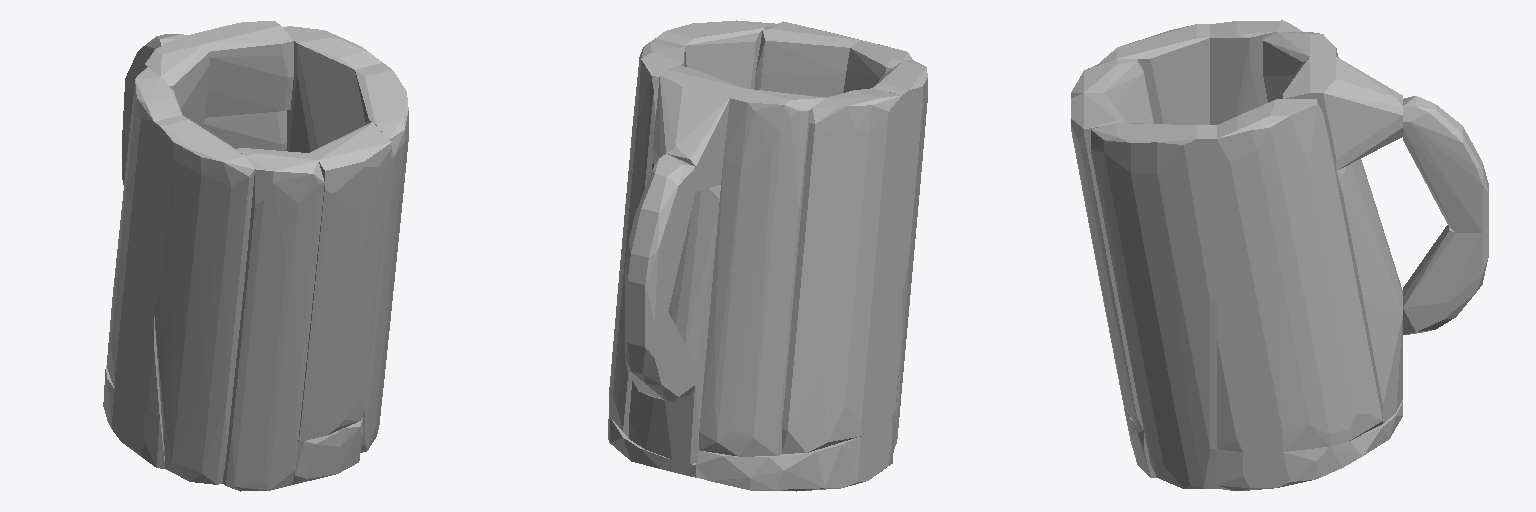
The robot description file, URDF, robot "root":
<robot name="root">
  <link name="link_fad118b32085f3f2c2c72e575af174cd_convex_piece_0">
    <inertial>
      <origin rpy="0 0 0" xyz="0 0 0"/>
      <mass value="1.40E-07"/>
      <inertia ixx="4.72E-11" ixy="7.38E-13" ixz="-1.54E-13" iyy="2.46E-12" iyz="-6.19E-12" izz="4.52E-11"/>
    </inertial>
    <visual>
      <origin rpy="0 0 0" xyz="0 0 0"/>
      <geometry>
        <mesh filename="fad118b32085f3f2c2c72e575af174cd_convex_piece_0.obj" scale="1.0000E+00"/>
      </geometry>
      <material name="">
        <color rgba="7.50E-01 7.50E-01 7.50E-01 1"/>
      </material>
    </visual>
    <collision>
      <origin rpy="0 0 0" xyz="0 0 0"/>
      <geometry>
        <mesh filename="fad118b32085f3f2c2c72e575af174cd_convex_piece_0.obj" scale="1.0000E+00"/>
      </geometry>
    </collision>
  </link>
  <link name="link_fad118b32085f3f2c2c72e575af174cd_convex_piece_1">
    <inertial>
      <origin rpy="0 0 0" xyz="0 0 0"/>
      <mass value="1.58E-07"/>
      <inertia ixx="7.34E-11" ixy="5.71E-13" ixz="4.11E-13" iyy="2.25E-11" iyz="3.10E-11" izz="5.13E-11"/>
    </inertial>
    <visual>
      <origin rpy="0 0 0" xyz="0 0 0"/>
      <geometry>
        <mesh filename="fad118b32085f3f2c2c72e575af174cd_convex_piece_1.obj" scale="1.0000E+00"/>
      </geometry>
      <material name="">
        <color rgba="7.50E-01 7.50E-01 7.50E-01 1"/>
      </material>
    </visual>
    <collision>
      <origin rpy="0 0 0" xyz="0 0 0"/>
      <geometry>
        <mesh filename="fad118b32085f3f2c2c72e575af174cd_convex_piece_1.obj" scale="1.0000E+00"/>
      </geometry>
    </collision>
  </link>
  <joint name="link_fad118b32085f3f2c2c72e575af174cd_convex_piece_1_joint" type="fixed">
    <origin rpy="0 0 0" xyz="0 0 0"/>
    <parent link="link_fad118b32085f3f2c2c72e575af174cd_convex_piece_0"/>
    <child link="link_fad118b32085f3f2c2c72e575af174cd_convex_piece_1"/>
  </joint>
  <link name="link_fad118b32085f3f2c2c72e575af174cd_convex_piece_2">
    <inertial>
      <origin rpy="0 0 0" xyz="0 0 0"/>
      <mass value="7.10E-07"/>
      <inertia ixx="1.92E-10" ixy="9.35E-11" ixz="-2.35E-11" iyy="1.95E-10" iyz="-3.03E-11" izz="1.85E-10"/>
    </inertial>
    <visual>
      <origin rpy="0 0 0" xyz="0 0 0"/>
      <geometry>
        <mesh filename="fad118b32085f3f2c2c72e575af174cd_convex_piece_2.obj" scale="1.0000E+00"/>
      </geometry>
      <material name="">
        <color rgba="7.50E-01 7.50E-01 7.50E-01 1"/>
      </material>
    </visual>
    <collision>
      <origin rpy="0 0 0" xyz="0 0 0"/>
      <geometry>
        <mesh filename="fad118b32085f3f2c2c72e575af174cd_convex_piece_2.obj" scale="1.0000E+00"/>
      </geometry>
    </collision>
  </link>
  <joint name="link_fad118b32085f3f2c2c72e575af174cd_convex_piece_2_joint" type="fixed">
    <origin rpy="0 0 0" xyz="0 0 0"/>
    <parent link="link_fad118b32085f3f2c2c72e575af174cd_convex_piece_1"/>
    <child link="link_fad118b32085f3f2c2c72e575af174cd_convex_piece_2"/>
  </joint>
  <link name="link_fad118b32085f3f2c2c72e575af174cd_convex_piece_3">
    <inertial>
      <origin rpy="0 0 0" xyz="0 0 0"/>
      <mass value="1.03E-06"/>
      <inertia ixx="3.84E-10" ixy="8.18E-11" ixz="1.54E-11" iyy="1.89E-10" iyz="1.81E-11" izz="2.62E-10"/>
    </inertial>
    <visual>
      <origin rpy="0 0 0" xyz="0 0 0"/>
      <geometry>
        <mesh filename="fad118b32085f3f2c2c72e575af174cd_convex_piece_3.obj" scale="1.0000E+00"/>
      </geometry>
      <material name="">
        <color rgba="7.50E-01 7.50E-01 7.50E-01 1"/>
      </material>
    </visual>
    <collision>
      <origin rpy="0 0 0" xyz="0 0 0"/>
      <geometry>
        <mesh filename="fad118b32085f3f2c2c72e575af174cd_convex_piece_3.obj" scale="1.0000E+00"/>
      </geometry>
    </collision>
  </link>
  <joint name="link_fad118b32085f3f2c2c72e575af174cd_convex_piece_3_joint" type="fixed">
    <origin rpy="0 0 0" xyz="0 0 0"/>
    <parent link="link_fad118b32085f3f2c2c72e575af174cd_convex_piece_2"/>
    <child link="link_fad118b32085f3f2c2c72e575af174cd_convex_piece_3"/>
  </joint>
  <link name="link_fad118b32085f3f2c2c72e575af174cd_convex_piece_4">
    <inertial>
      <origin rpy="0 0 0" xyz="0 0 0"/>
      <mass value="5.51E-07"/>
      <inertia ixx="1.92E-10" ixy="-2.05E-12" ixz="8.16E-11" iyy="2.27E-10" iyz="-1.07E-11" izz="5.17E-11"/>
    </inertial>
    <visual>
      <origin rpy="0 0 0" xyz="0 0 0"/>
      <geometry>
        <mesh filename="fad118b32085f3f2c2c72e575af174cd_convex_piece_4.obj" scale="1.0000E+00"/>
      </geometry>
      <material name="">
        <color rgba="7.50E-01 7.50E-01 7.50E-01 1"/>
      </material>
    </visual>
    <collision>
      <origin rpy="0 0 0" xyz="0 0 0"/>
      <geometry>
        <mesh filename="fad118b32085f3f2c2c72e575af174cd_convex_piece_4.obj" scale="1.0000E+00"/>
      </geometry>
    </collision>
  </link>
  <joint name="link_fad118b32085f3f2c2c72e575af174cd_convex_piece_4_joint" type="fixed">
    <origin rpy="0 0 0" xyz="0 0 0"/>
    <parent link="link_fad118b32085f3f2c2c72e575af174cd_convex_piece_3"/>
    <child link="link_fad118b32085f3f2c2c72e575af174cd_convex_piece_4"/>
  </joint>
  <link name="link_fad118b32085f3f2c2c72e575af174cd_convex_piece_5">
    <inertial>
      <origin rpy="0 0 0" xyz="0 0 0"/>
      <mass value="1.02E-06"/>
      <inertia ixx="2.78E-10" ixy="-1.26E-10" ixz="2.12E-11" iyy="2.69E-10" iyz="-3.20E-11" izz="2.56E-10"/>
    </inertial>
    <visual>
      <origin rpy="0 0 0" xyz="0 0 0"/>
      <geometry>
        <mesh filename="fad118b32085f3f2c2c72e575af174cd_convex_piece_5.obj" scale="1.0000E+00"/>
      </geometry>
      <material name="">
        <color rgba="7.50E-01 7.50E-01 7.50E-01 1"/>
      </material>
    </visual>
    <collision>
      <origin rpy="0 0 0" xyz="0 0 0"/>
      <geometry>
        <mesh filename="fad118b32085f3f2c2c72e575af174cd_convex_piece_5.obj" scale="1.0000E+00"/>
      </geometry>
    </collision>
  </link>
  <joint name="link_fad118b32085f3f2c2c72e575af174cd_convex_piece_5_joint" type="fixed">
    <origin rpy="0 0 0" xyz="0 0 0"/>
    <parent link="link_fad118b32085f3f2c2c72e575af174cd_convex_piece_4"/>
    <child link="link_fad118b32085f3f2c2c72e575af174cd_convex_piece_5"/>
  </joint>
  <link name="link_fad118b32085f3f2c2c72e575af174cd_convex_piece_6">
    <inertial>
      <origin rpy="0 0 0" xyz="0 0 0"/>
      <mass value="4.96E-07"/>
      <inertia ixx="1.84E-10" ixy="1.45E-12" ixz="-6.09E-11" iyy="2.09E-10" iyz="-1.22E-11" izz="3.82E-11"/>
    </inertial>
    <visual>
      <origin rpy="0 0 0" xyz="0 0 0"/>
      <geometry>
        <mesh filename="fad118b32085f3f2c2c72e575af174cd_convex_piece_6.obj" scale="1.0000E+00"/>
      </geometry>
      <material name="">
        <color rgba="7.50E-01 7.50E-01 7.50E-01 1"/>
      </material>
    </visual>
    <collision>
      <origin rpy="0 0 0" xyz="0 0 0"/>
      <geometry>
        <mesh filename="fad118b32085f3f2c2c72e575af174cd_convex_piece_6.obj" scale="1.0000E+00"/>
      </geometry>
    </collision>
  </link>
  <joint name="link_fad118b32085f3f2c2c72e575af174cd_convex_piece_6_joint" type="fixed">
    <origin rpy="0 0 0" xyz="0 0 0"/>
    <parent link="link_fad118b32085f3f2c2c72e575af174cd_convex_piece_5"/>
    <child link="link_fad118b32085f3f2c2c72e575af174cd_convex_piece_6"/>
  </joint>
  <link name="link_fad118b32085f3f2c2c72e575af174cd_convex_piece_7">
    <inertial>
      <origin rpy="0 0 0" xyz="0 0 0"/>
      <mass value="9.69E-07"/>
      <inertia ixx="1.11E-10" ixy="1.78E-11" ixz="-1.78E-11" iyy="2.52E-10" iyz="-1.25E-11" izz="1.44E-10"/>
    </inertial>
    <visual>
      <origin rpy="0 0 0" xyz="0 0 0"/>
      <geometry>
        <mesh filename="fad118b32085f3f2c2c72e575af174cd_convex_piece_7.obj" scale="1.0000E+00"/>
      </geometry>
      <material name="">
        <color rgba="7.50E-01 7.50E-01 7.50E-01 1"/>
      </material>
    </visual>
    <collision>
      <origin rpy="0 0 0" xyz="0 0 0"/>
      <geometry>
        <mesh filename="fad118b32085f3f2c2c72e575af174cd_convex_piece_7.obj" scale="1.0000E+00"/>
      </geometry>
    </collision>
  </link>
  <joint name="link_fad118b32085f3f2c2c72e575af174cd_convex_piece_7_joint" type="fixed">
    <origin rpy="0 0 0" xyz="0 0 0"/>
    <parent link="link_fad118b32085f3f2c2c72e575af174cd_convex_piece_6"/>
    <child link="link_fad118b32085f3f2c2c72e575af174cd_convex_piece_7"/>
  </joint>
  <link name="link_fad118b32085f3f2c2c72e575af174cd_convex_piece_8">
    <inertial>
      <origin rpy="0 0 0" xyz="0 0 0"/>
      <mass value="8.72E-07"/>
      <inertia ixx="1.39E-10" ixy="-2.76E-11" ixz="-1.94E-11" iyy="1.51E-10" iyz="-4.37E-13" izz="5.84E-11"/>
    </inertial>
    <visual>
      <origin rpy="0 0 0" xyz="0 0 0"/>
      <geometry>
        <mesh filename="fad118b32085f3f2c2c72e575af174cd_convex_piece_8.obj" scale="1.0000E+00"/>
      </geometry>
      <material name="">
        <color rgba="7.50E-01 7.50E-01 7.50E-01 1"/>
      </material>
    </visual>
    <collision>
      <origin rpy="0 0 0" xyz="0 0 0"/>
      <geometry>
        <mesh filename="fad118b32085f3f2c2c72e575af174cd_convex_piece_8.obj" scale="1.0000E+00"/>
      </geometry>
    </collision>
  </link>
  <joint name="link_fad118b32085f3f2c2c72e575af174cd_convex_piece_8_joint" type="fixed">
    <origin rpy="0 0 0" xyz="0 0 0"/>
    <parent link="link_fad118b32085f3f2c2c72e575af174cd_convex_piece_7"/>
    <child link="link_fad118b32085f3f2c2c72e575af174cd_convex_piece_8"/>
  </joint>
  <link name="link_fad118b32085f3f2c2c72e575af174cd_convex_piece_9">
    <inertial>
      <origin rpy="0 0 0" xyz="0 0 0"/>
      <mass value="1.96E-07"/>
      <inertia ixx="1.09E-10" ixy="-6.65E-12" ixz="-1.14E-11" iyy="8.44E-11" iyz="4.79E-11" izz="3.03E-11"/>
    </inertial>
    <visual>
      <origin rpy="0 0 0" xyz="0 0 0"/>
      <geometry>
        <mesh filename="fad118b32085f3f2c2c72e575af174cd_convex_piece_9.obj" scale="1.0000E+00"/>
      </geometry>
      <material name="">
        <color rgba="7.50E-01 7.50E-01 7.50E-01 1"/>
      </material>
    </visual>
    <collision>
      <origin rpy="0 0 0" xyz="0 0 0"/>
      <geometry>
        <mesh filename="fad118b32085f3f2c2c72e575af174cd_convex_piece_9.obj" scale="1.0000E+00"/>
      </geometry>
    </collision>
  </link>
  <joint name="link_fad118b32085f3f2c2c72e575af174cd_convex_piece_9_joint" type="fixed">
    <origin rpy="0 0 0" xyz="0 0 0"/>
    <parent link="link_fad118b32085f3f2c2c72e575af174cd_convex_piece_8"/>
    <child link="link_fad118b32085f3f2c2c72e575af174cd_convex_piece_9"/>
  </joint>
  <link name="link_fad118b32085f3f2c2c72e575af174cd_convex_piece_10">
    <inertial>
      <origin rpy="0 0 0" xyz="0 0 0"/>
      <mass value="8.89E-07"/>
      <inertia ixx="3.48E-10" ixy="-4.66E-11" ixz="2.50E-12" iyy="1.12E-10" iyz="-3.05E-11" izz="2.67E-10"/>
    </inertial>
    <visual>
      <origin rpy="0 0 0" xyz="0 0 0"/>
      <geometry>
        <mesh filename="fad118b32085f3f2c2c72e575af174cd_convex_piece_10.obj" scale="1.0000E+00"/>
      </geometry>
      <material name="">
        <color rgba="7.50E-01 7.50E-01 7.50E-01 1"/>
      </material>
    </visual>
    <collision>
      <origin rpy="0 0 0" xyz="0 0 0"/>
      <geometry>
        <mesh filename="fad118b32085f3f2c2c72e575af174cd_convex_piece_10.obj" scale="1.0000E+00"/>
      </geometry>
    </collision>
  </link>
  <joint name="link_fad118b32085f3f2c2c72e575af174cd_convex_piece_10_joint" type="fixed">
    <origin rpy="0 0 0" xyz="0 0 0"/>
    <parent link="link_fad118b32085f3f2c2c72e575af174cd_convex_piece_9"/>
    <child link="link_fad118b32085f3f2c2c72e575af174cd_convex_piece_10"/>
  </joint>
  <link name="link_fad118b32085f3f2c2c72e575af174cd_convex_piece_11">
    <inertial>
      <origin rpy="0 0 0" xyz="0 0 0"/>
      <mass value="1.32E-06"/>
      <inertia ixx="1.61E-10" ixy="-4.29E-12" ixz="1.07E-11" iyy="3.30E-10" iyz="-1.57E-11" izz="1.73E-10"/>
    </inertial>
    <visual>
      <origin rpy="0 0 0" xyz="0 0 0"/>
      <geometry>
        <mesh filename="fad118b32085f3f2c2c72e575af174cd_convex_piece_11.obj" scale="1.0000E+00"/>
      </geometry>
      <material name="">
        <color rgba="7.50E-01 7.50E-01 7.50E-01 1"/>
      </material>
    </visual>
    <collision>
      <origin rpy="0 0 0" xyz="0 0 0"/>
      <geometry>
        <mesh filename="fad118b32085f3f2c2c72e575af174cd_convex_piece_11.obj" scale="1.0000E+00"/>
      </geometry>
    </collision>
  </link>
  <joint name="link_fad118b32085f3f2c2c72e575af174cd_convex_piece_11_joint" type="fixed">
    <origin rpy="0 0 0" xyz="0 0 0"/>
    <parent link="link_fad118b32085f3f2c2c72e575af174cd_convex_piece_10"/>
    <child link="link_fad118b32085f3f2c2c72e575af174cd_convex_piece_11"/>
  </joint>
  <link name="link_fad118b32085f3f2c2c72e575af174cd_convex_piece_12">
    <inertial>
      <origin rpy="0 0 0" xyz="0 0 0"/>
      <mass value="8.41E-07"/>
      <inertia ixx="1.11E-10" ixy="1.89E-11" ixz="-3.80E-12" iyy="7.59E-11" iyz="-2.32E-11" izz="6.22E-11"/>
    </inertial>
    <visual>
      <origin rpy="0 0 0" xyz="0 0 0"/>
      <geometry>
        <mesh filename="fad118b32085f3f2c2c72e575af174cd_convex_piece_12.obj" scale="1.0000E+00"/>
      </geometry>
      <material name="">
        <color rgba="7.50E-01 7.50E-01 7.50E-01 1"/>
      </material>
    </visual>
    <collision>
      <origin rpy="0 0 0" xyz="0 0 0"/>
      <geometry>
        <mesh filename="fad118b32085f3f2c2c72e575af174cd_convex_piece_12.obj" scale="1.0000E+00"/>
      </geometry>
    </collision>
  </link>
  <joint name="link_fad118b32085f3f2c2c72e575af174cd_convex_piece_12_joint" type="fixed">
    <origin rpy="0 0 0" xyz="0 0 0"/>
    <parent link="link_fad118b32085f3f2c2c72e575af174cd_convex_piece_11"/>
    <child link="link_fad118b32085f3f2c2c72e575af174cd_convex_piece_12"/>
  </joint>
  <link name="link_fad118b32085f3f2c2c72e575af174cd_convex_piece_13">
    <inertial>
      <origin rpy="0 0 0" xyz="0 0 0"/>
      <mass value="3.49E-07"/>
      <inertia ixx="1.30E-10" ixy="4.83E-12" ixz="1.73E-11" iyy="1.24E-10" iyz="3.84E-11" izz="1.65E-11"/>
    </inertial>
    <visual>
      <origin rpy="0 0 0" xyz="0 0 0"/>
      <geometry>
        <mesh filename="fad118b32085f3f2c2c72e575af174cd_convex_piece_13.obj" scale="1.0000E+00"/>
      </geometry>
      <material name="">
        <color rgba="7.50E-01 7.50E-01 7.50E-01 1"/>
      </material>
    </visual>
    <collision>
      <origin rpy="0 0 0" xyz="0 0 0"/>
      <geometry>
        <mesh filename="fad118b32085f3f2c2c72e575af174cd_convex_piece_13.obj" scale="1.0000E+00"/>
      </geometry>
    </collision>
  </link>
  <joint name="link_fad118b32085f3f2c2c72e575af174cd_convex_piece_13_joint" type="fixed">
    <origin rpy="0 0 0" xyz="0 0 0"/>
    <parent link="link_fad118b32085f3f2c2c72e575af174cd_convex_piece_12"/>
    <child link="link_fad118b32085f3f2c2c72e575af174cd_convex_piece_13"/>
  </joint>
</robot>

--- Facts derived from the render (not from the file) ---
Views: 3 orthographic renders of the robot side by side, from view 1: azimuth 30°, elevation 25°; view 2: azimuth 150°, elevation 25°; view 3: azimuth 270°, elevation 25°.
Model root with 14 links and 13 joints (13 fixed), rooted at link_fad118b32085f3f2c2c72e575af174cd_convex_piece_0, posed every joint at zero.
Links seen in each view (by area): view 1: link_fad118b32085f3f2c2c72e575af174cd_convex_piece_2, link_fad118b32085f3f2c2c72e575af174cd_convex_piece_3, link_fad118b32085f3f2c2c72e575af174cd_convex_piece_10, link_fad118b32085f3f2c2c72e575af174cd_convex_piece_7, link_fad118b32085f3f2c2c72e575af174cd_convex_piece_5, link_fad118b32085f3f2c2c72e575af174cd_convex_piece_13, link_fad118b32085f3f2c2c72e575af174cd_convex_piece_11, link_fad118b32085f3f2c2c72e575af174cd_convex_piece_8, link_fad118b32085f3f2c2c72e575af174cd_convex_piece_4, link_fad118b32085f3f2c2c72e575af174cd_convex_piece_9, link_fad118b32085f3f2c2c72e575af174cd_convex_piece_12, link_fad118b32085f3f2c2c72e575af174cd_convex_piece_1; view 2: link_fad118b32085f3f2c2c72e575af174cd_convex_piece_7, link_fad118b32085f3f2c2c72e575af174cd_convex_piece_8, link_fad118b32085f3f2c2c72e575af174cd_convex_piece_12, link_fad118b32085f3f2c2c72e575af174cd_convex_piece_1, link_fad118b32085f3f2c2c72e575af174cd_convex_piece_4, link_fad118b32085f3f2c2c72e575af174cd_convex_piece_13, link_fad118b32085f3f2c2c72e575af174cd_convex_piece_11, link_fad118b32085f3f2c2c72e575af174cd_convex_piece_10, link_fad118b32085f3f2c2c72e575af174cd_convex_piece_2, link_fad118b32085f3f2c2c72e575af174cd_convex_piece_0, link_fad118b32085f3f2c2c72e575af174cd_convex_piece_5, link_fad118b32085f3f2c2c72e575af174cd_convex_piece_3 (+1 smaller); view 3: link_fad118b32085f3f2c2c72e575af174cd_convex_piece_11, link_fad118b32085f3f2c2c72e575af174cd_convex_piece_5, link_fad118b32085f3f2c2c72e575af174cd_convex_piece_12, link_fad118b32085f3f2c2c72e575af174cd_convex_piece_13, link_fad118b32085f3f2c2c72e575af174cd_convex_piece_1, link_fad118b32085f3f2c2c72e575af174cd_convex_piece_2, link_fad118b32085f3f2c2c72e575af174cd_convex_piece_10, link_fad118b32085f3f2c2c72e575af174cd_convex_piece_0, link_fad118b32085f3f2c2c72e575af174cd_convex_piece_6, link_fad118b32085f3f2c2c72e575af174cd_convex_piece_7, link_fad118b32085f3f2c2c72e575af174cd_convex_piece_3, link_fad118b32085f3f2c2c72e575af174cd_convex_piece_8 (+1 smaller).
Link boxes in pixels (x1=…): link_fad118b32085f3f2c2c72e575af174cd_convex_piece_2: x1=154, y1=115, x2=254, y2=484; link_fad118b32085f3f2c2c72e575af174cd_convex_piece_3: x1=222, y1=148, x2=324, y2=491; link_fad118b32085f3f2c2c72e575af174cd_convex_piece_10: x1=298, y1=122, x2=391, y2=441; link_fad118b32085f3f2c2c72e575af174cd_convex_piece_7: x1=107, y1=67, x2=181, y2=416; link_fad118b32085f3f2c2c72e575af174cd_convex_piece_5: x1=350, y1=63, x2=408, y2=452; link_fad118b32085f3f2c2c72e575af174cd_convex_piece_13: x1=195, y1=21, x2=293, y2=117; link_fad118b32085f3f2c2c72e575af174cd_convex_piece_11: x1=283, y1=26, x2=382, y2=152; link_fad118b32085f3f2c2c72e575af174cd_convex_piece_8: x1=144, y1=34, x2=209, y2=127; link_fad118b32085f3f2c2c72e575af174cd_convex_piece_4: x1=103, y1=365, x2=164, y2=468; link_fad118b32085f3f2c2c72e575af174cd_convex_piece_9: x1=292, y1=417, x2=362, y2=484; link_fad118b32085f3f2c2c72e575af174cd_convex_piece_12: x1=204, y1=111, x2=286, y2=150; link_fad118b32085f3f2c2c72e575af174cd_convex_piece_1: x1=122, y1=34, x2=185, y2=144; link_fad118b32085f3f2c2c72e575af174cd_convex_piece_7: x1=782, y1=88, x2=901, y2=453; link_fad118b32085f3f2c2c72e575af174cd_convex_piece_8: x1=699, y1=88, x2=825, y2=456; link_fad118b32085f3f2c2c72e575af174cd_convex_piece_12: x1=629, y1=161, x2=720, y2=463; link_fad118b32085f3f2c2c72e575af174cd_convex_piece_1: x1=625, y1=154, x2=695, y2=321; link_fad118b32085f3f2c2c72e575af174cd_convex_piece_4: x1=696, y1=410, x2=895, y2=491; link_fad118b32085f3f2c2c72e575af174cd_convex_piece_13: x1=653, y1=66, x2=743, y2=191; link_fad118b32085f3f2c2c72e575af174cd_convex_piece_11: x1=609, y1=39, x2=684, y2=438; link_fad118b32085f3f2c2c72e575af174cd_convex_piece_10: x1=754, y1=21, x2=866, y2=97; link_fad118b32085f3f2c2c72e575af174cd_convex_piece_2: x1=873, y1=60, x2=927, y2=448; link_fad118b32085f3f2c2c72e575af174cd_convex_piece_0: x1=625, y1=312, x2=695, y2=401; link_fad118b32085f3f2c2c72e575af174cd_convex_piece_5: x1=655, y1=20, x2=775, y2=88; link_fad118b32085f3f2c2c72e575af174cd_convex_piece_3: x1=843, y1=40, x2=912, y2=92; link_fad118b32085f3f2c2c72e575af174cd_convex_piece_11: x1=1217, y1=99, x2=1382, y2=451; link_fad118b32085f3f2c2c72e575af174cd_convex_piece_5: x1=1091, y1=123, x2=1216, y2=488; link_fad118b32085f3f2c2c72e575af174cd_convex_piece_12: x1=1336, y1=159, x2=1402, y2=423; link_fad118b32085f3f2c2c72e575af174cd_convex_piece_13: x1=1283, y1=57, x2=1402, y2=170; link_fad118b32085f3f2c2c72e575af174cd_convex_piece_1: x1=1403, y1=96, x2=1488, y2=232; link_fad118b32085f3f2c2c72e575af174cd_convex_piece_2: x1=1097, y1=24, x2=1209, y2=124; link_fad118b32085f3f2c2c72e575af174cd_convex_piece_10: x1=1071, y1=93, x2=1143, y2=429; link_fad118b32085f3f2c2c72e575af174cd_convex_piece_0: x1=1403, y1=225, x2=1488, y2=334; link_fad118b32085f3f2c2c72e575af174cd_convex_piece_6: x1=1217, y1=400, x2=1402, y2=490; link_fad118b32085f3f2c2c72e575af174cd_convex_piece_7: x1=1210, y1=20, x2=1302, y2=124; link_fad118b32085f3f2c2c72e575af174cd_convex_piece_3: x1=1071, y1=59, x2=1154, y2=123; link_fad118b32085f3f2c2c72e575af174cd_convex_piece_8: x1=1263, y1=32, x2=1338, y2=102.
Bounding box of the posed robot: 0.0298 × 0.0458 × 0.0465 m (x, y, z).
Meshes: 14 distinct files referenced, 14 mesh visuals loaded (14 OBJ).